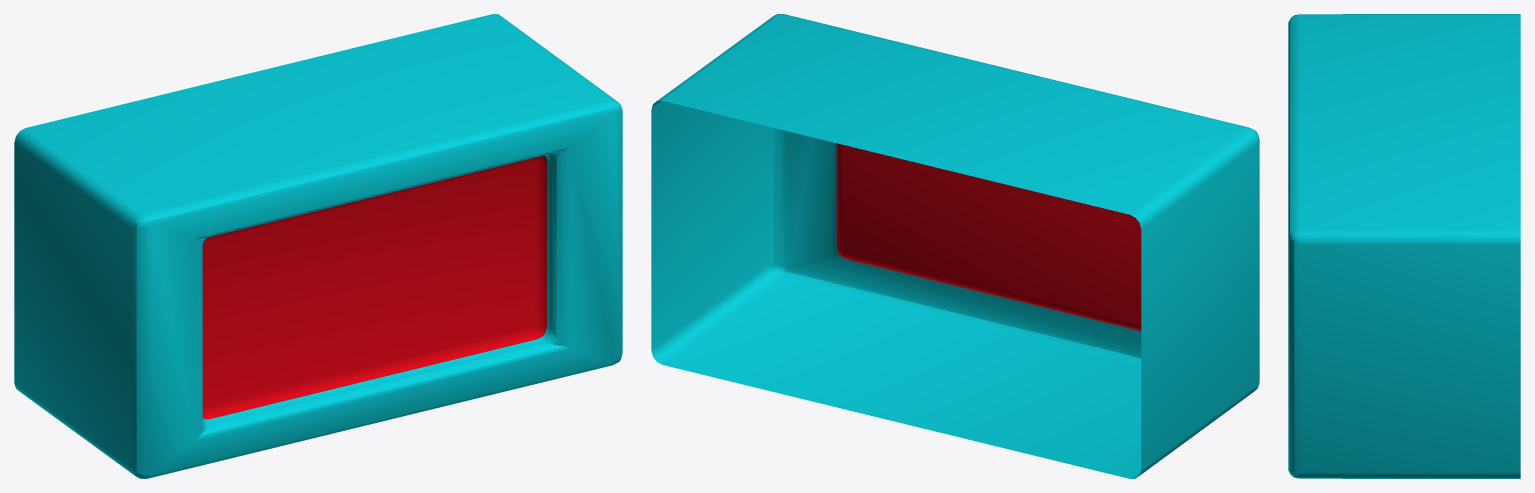
File: LumiereEmisionPorteOK.fbx
The picture shows the model from 3 angles, left to right: view 1: azimuth 30°, elevation 25°; view 2: azimuth 150°, elevation 25°; view 3: azimuth 270°, elevation 25°; orthographic projection. The views are drawn at different scales.
Visible parts, largest first — view 1: SupportEmission; view 2: SupportEmission; view 3: SupportEmission.
Boxes of the visible parts, x1,y1,x2,y2 form: SupportEmission: (14, 14, 622, 478); SupportEmission: (651, 14, 1259, 478); SupportEmission: (1288, 14, 1520, 478).
Size of the model in its own units: 36.2 by 18.66 by 15.83.
